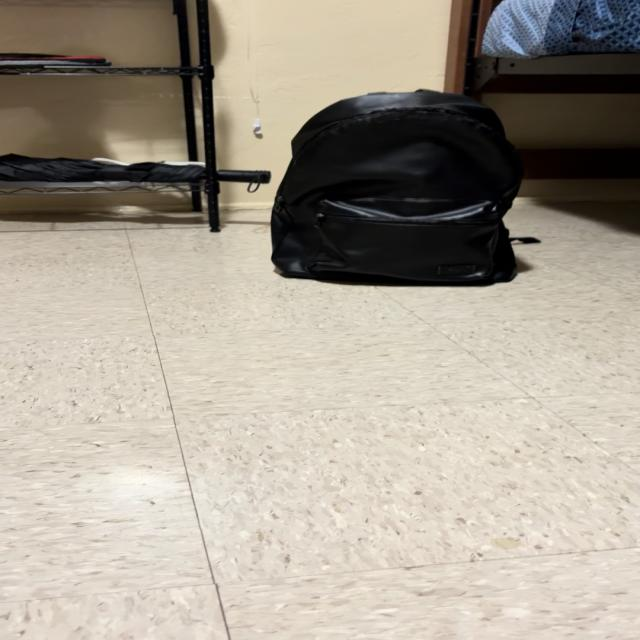backpack: (271, 91, 522, 283)
